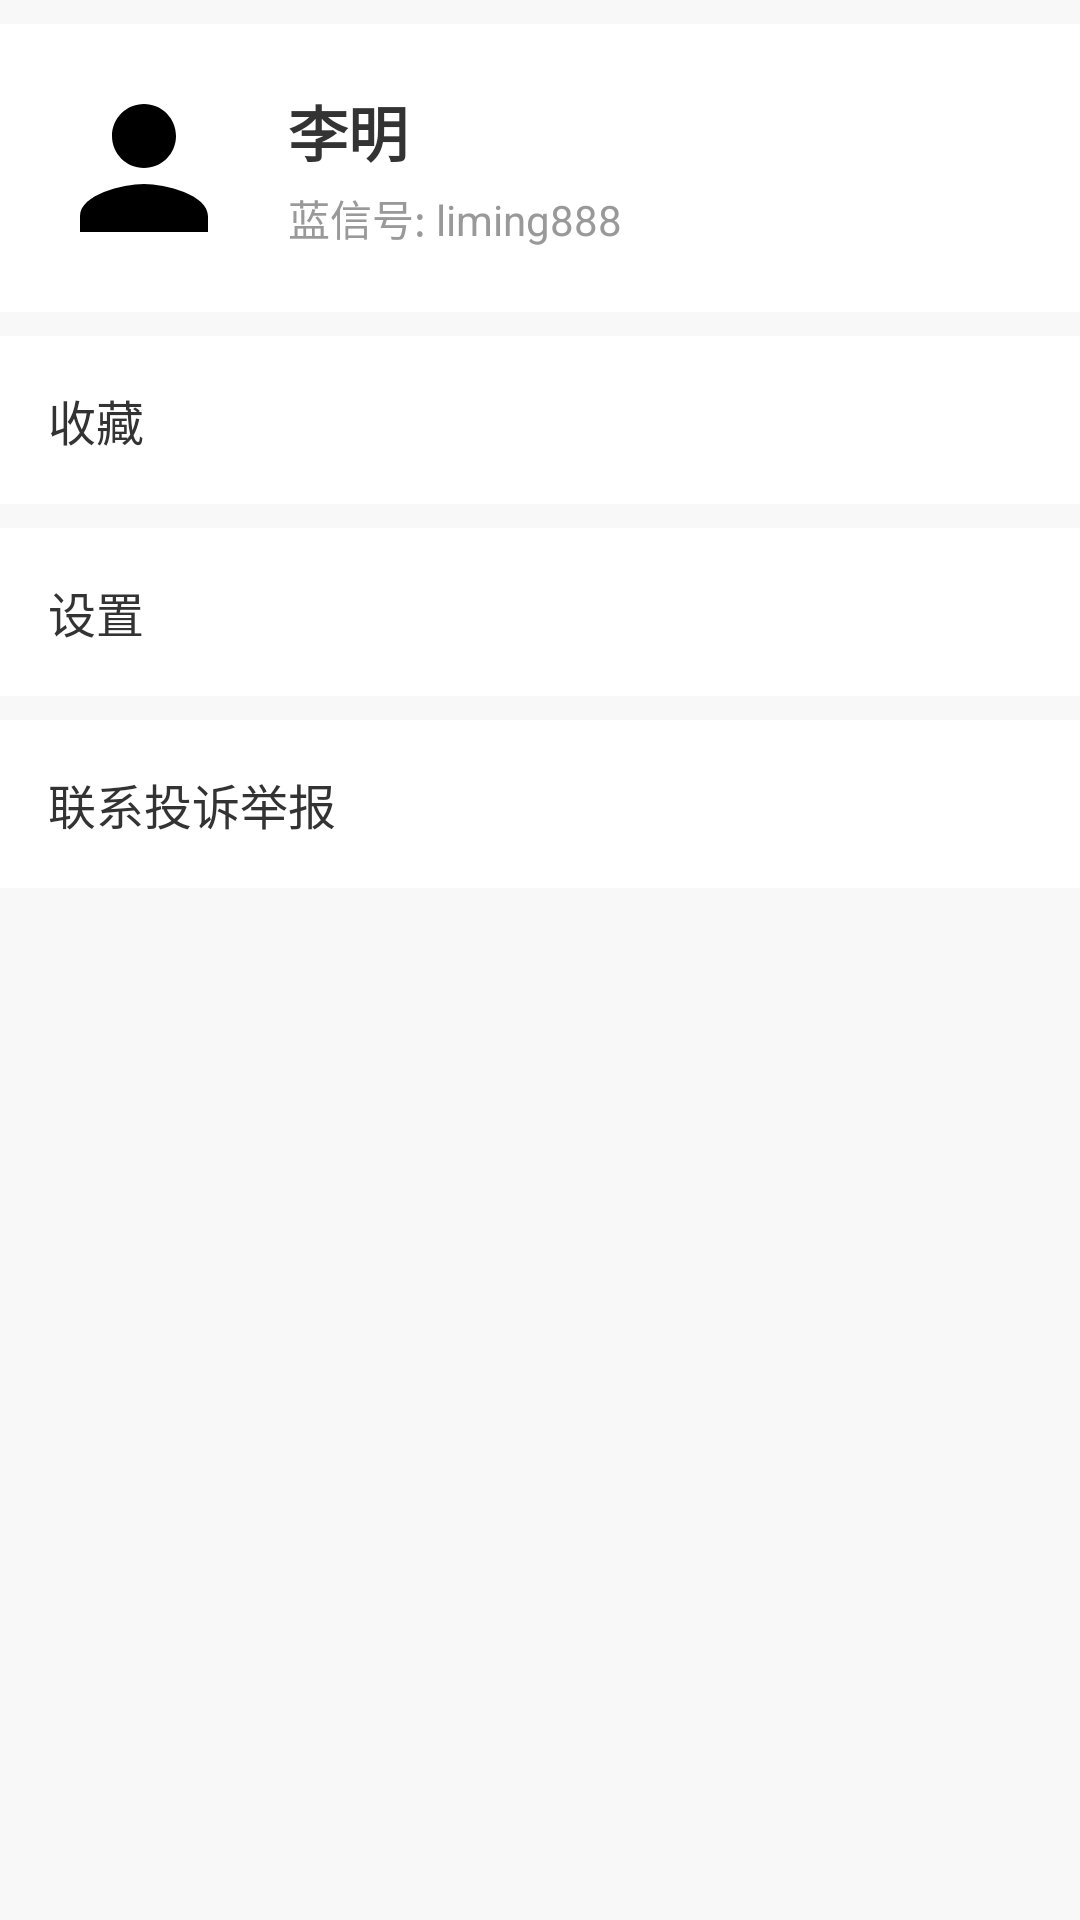

Named icons in this screenshot (1080*1920) and their bounding boxes, [x1, y1, x2, y2]:
个人头像: [80, 104, 208, 232]
